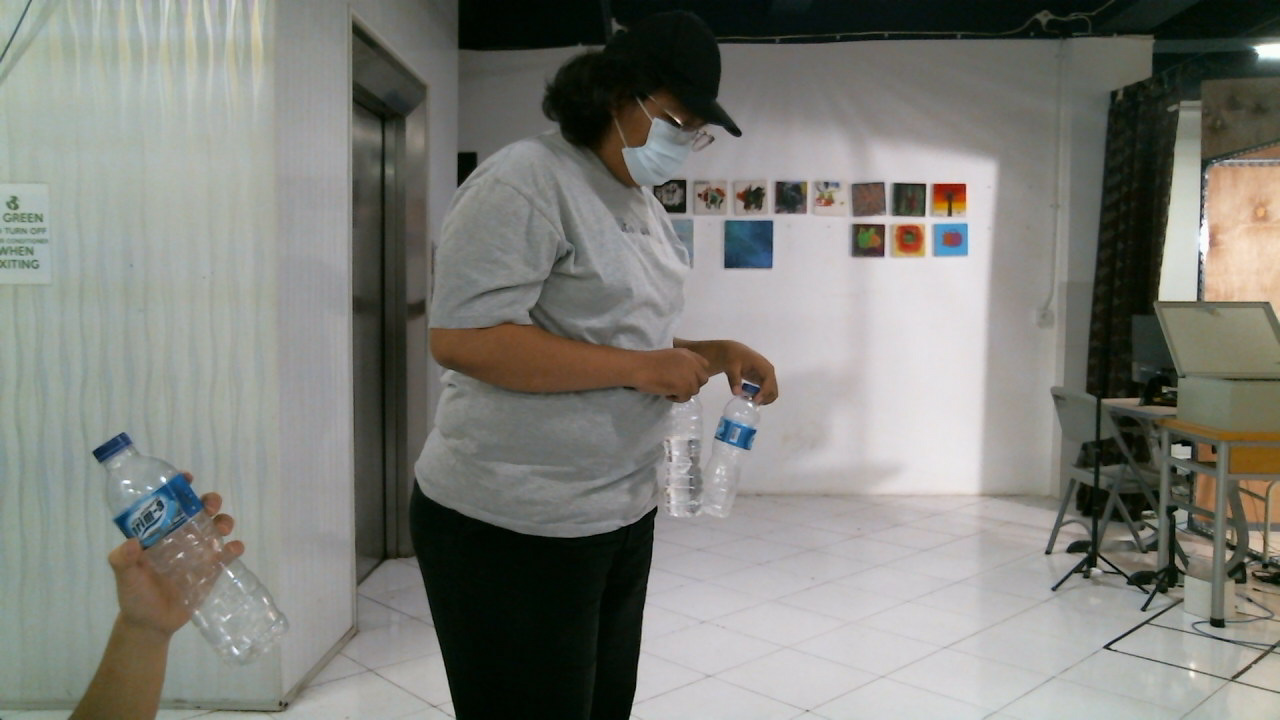Bottle: (98, 432, 290, 657), (700, 384, 760, 512)
